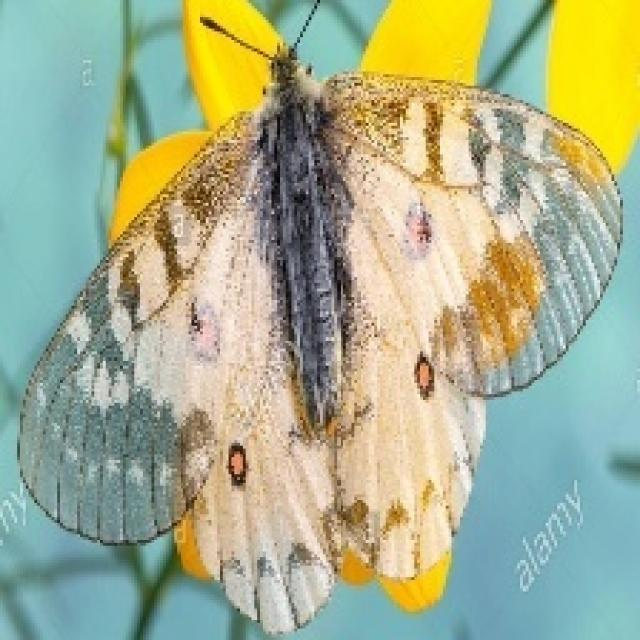butterfly: (14, 0, 622, 634)
